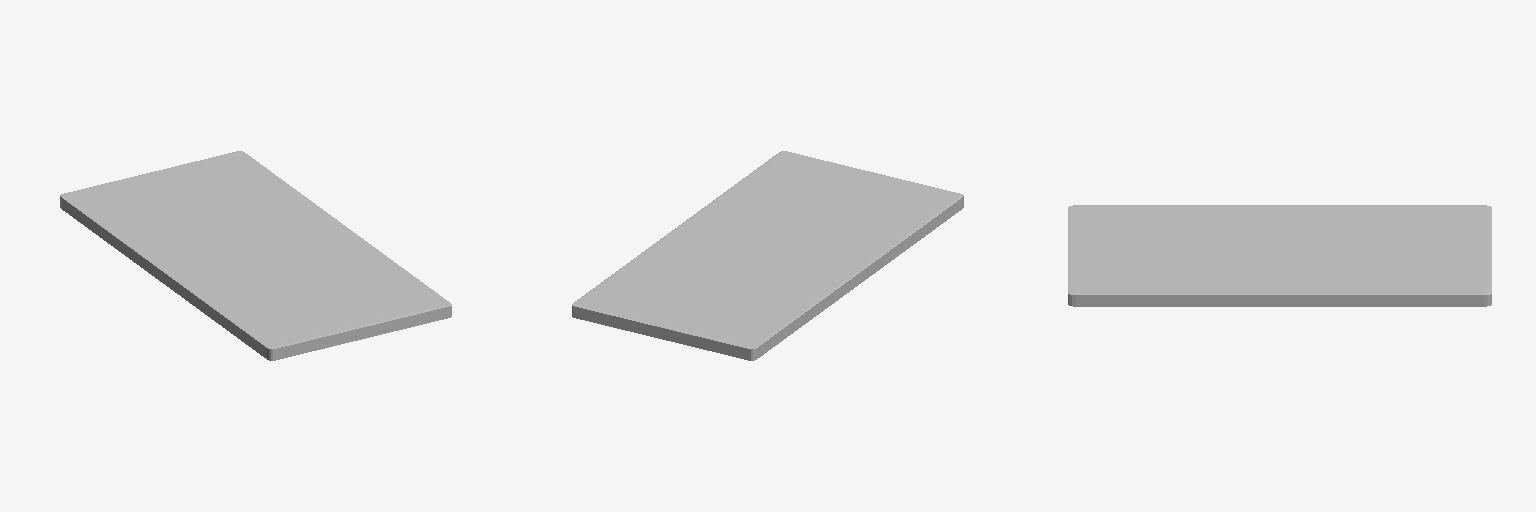
File: tableface.obj
3 views of the same model, side by side, from view 1: azimuth 30°, elevation 25°; view 2: azimuth 150°, elevation 25°; view 3: azimuth 270°, elevation 25° (orthographic).
Parts seen in each view (by area): view 1: 立方体.029; view 2: 立方体.029; view 3: 立方体.029.
Boxes of the visible parts, <box> form: 立方体.029: <box>60,151,451,360</box>; 立方体.029: <box>572,151,963,360</box>; 立方体.029: <box>1068,205,1491,306</box>.
Size of the model in its own units: 1.19 by 0.0742 by 2.37.